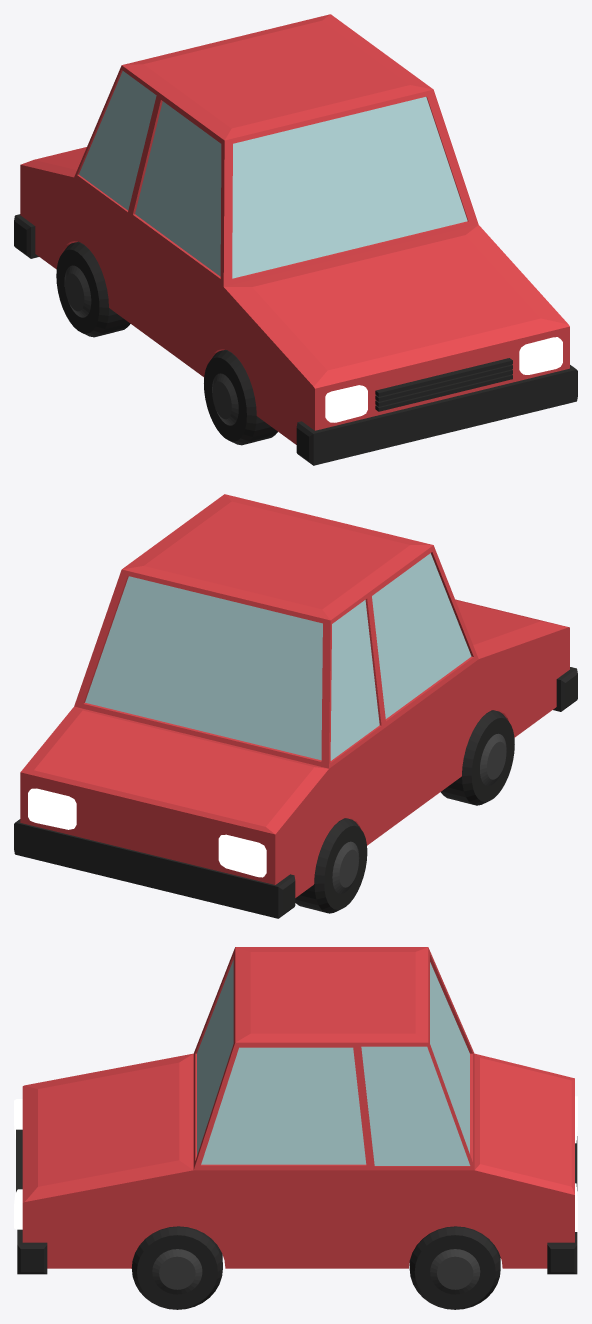
The model's file is armatur und lenkrad.fbx.
3 views of the same model, one above another, from view 1: azimuth 30°, elevation 25°; view 2: azimuth 150°, elevation 25°; view 3: azimuth 270°, elevation 25° (orthographic). The views are drawn at different scales.
Visible parts, largest first — view 1: auto, frontscheibe, reifen vr, reifen hl; view 2: auto, reifen hl, reifen vr; view 3: auto, seitenfenster, reifen hl.001, reifen vl, frontscheibe.
Boxes of the visible parts, x1,y1,x2,y2 form: auto: (14,14,577,465); frontscheibe: (232,97,467,278); reifen vr: (204,349,277,445); reifen hl: (56,241,130,337); auto: (14,494,577,918); reifen hl: (295,818,367,913); reifen vr: (440,710,514,805); auto: (14,947,577,1274); seitenfenster: (201,1047,366,1164); reifen hl.001: (409,1226,500,1309); reifen vl: (131,1226,222,1309); frontscheibe: (197,960,233,1155).
Size of the model in its own units: 323 by 310 by 612.
